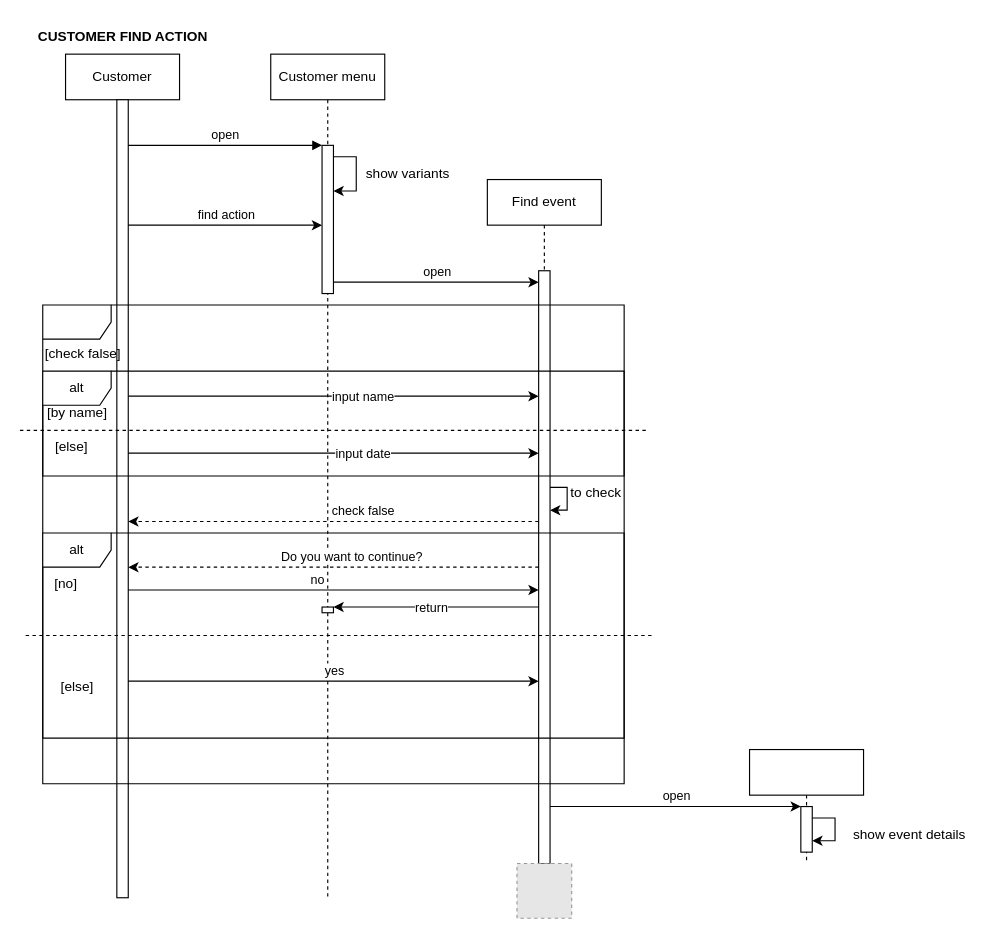
The diagram is 998 pixels wide and 938 high, and some of its shapes have lost their labels. Grey dashed boxes stand in for pictures. Here are the shapes that lost their labels. From the top down, the box of each, then its label:
(42, 304, 624, 784): loop
(748, 748, 864, 864): Event
